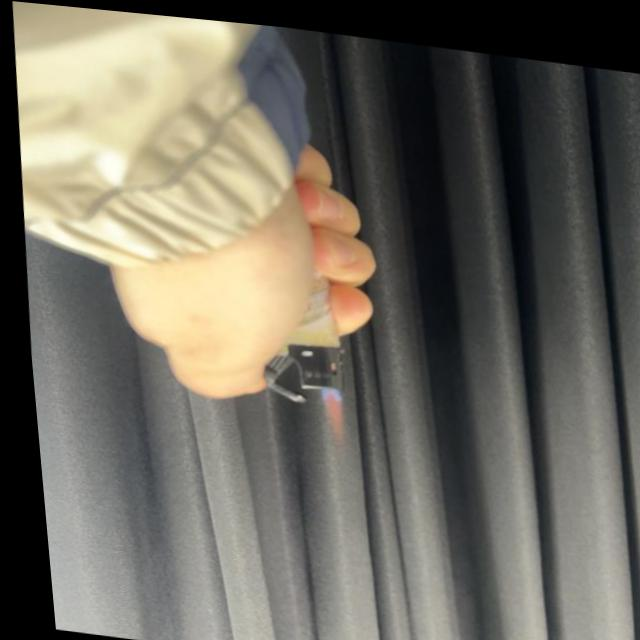Fire: (310, 381, 344, 433)
